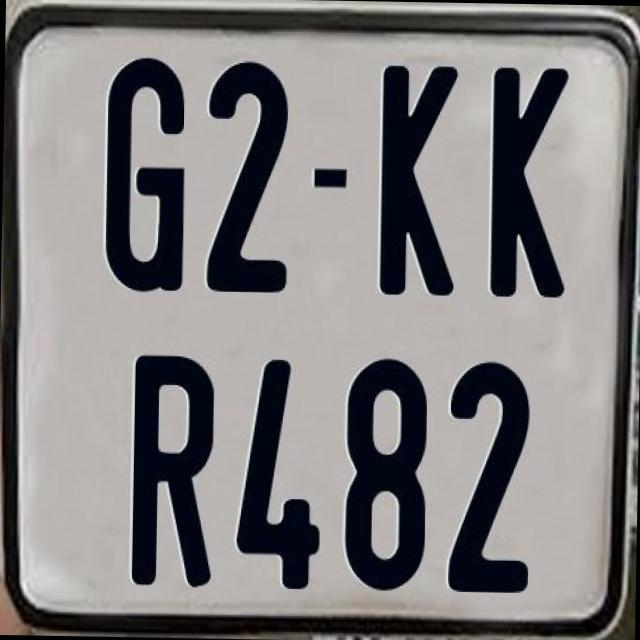2: (443, 361, 529, 594), (203, 59, 287, 295)
4: (235, 359, 324, 594)
8: (341, 352, 425, 588)
G: (103, 52, 189, 288)
K: (486, 67, 572, 303), (380, 62, 466, 292)
R: (132, 350, 220, 586)
